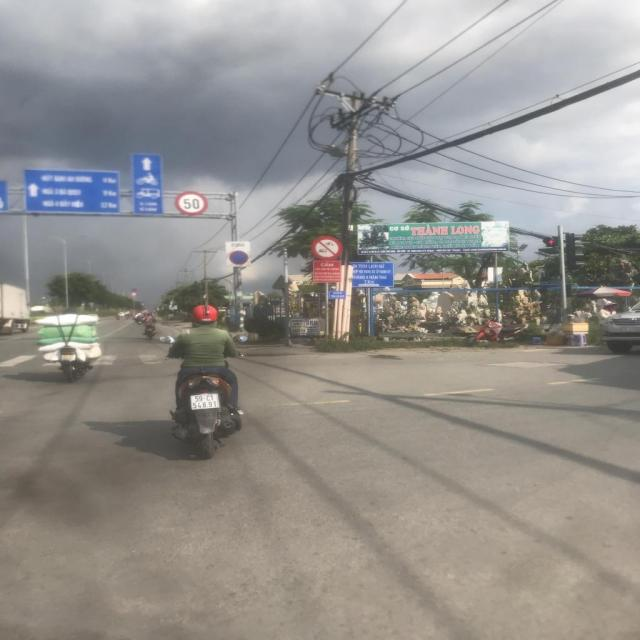cam_cac_loai_xe_3_banh: (311, 236, 344, 260)
cam_do_xe: (230, 250, 248, 264)
khac: (24, 170, 120, 213), (132, 153, 161, 214)
toc_do_toi_da_50: (174, 192, 208, 216)
